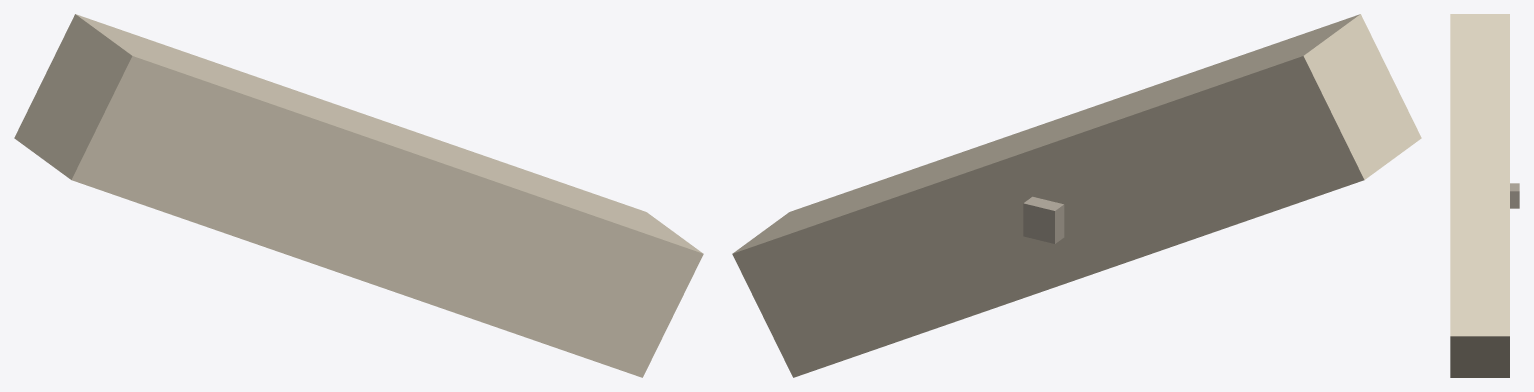
Rendered from historic-palestine-13_36_3550_3301.glb.
3 renders of one model, left to right at view 1: azimuth 30°, elevation 25°; view 2: azimuth 150°, elevation 25°; view 3: azimuth 270°, elevation 25°, orthographic. The views are drawn at different scales.
Parts seen in each view (by area): view 1: Building_; view 2: Building_, Roof access hut; view 3: Building_, Roof access hut.
Boxes of the visible parts, x1,y1,x2,y2 form: Building_: (14, 14, 703, 377); Building_: (732, 14, 1421, 377); Roof access hut: (1023, 196, 1064, 243); Building_: (1450, 14, 1509, 377); Roof access hut: (1510, 183, 1519, 208).
Size of the model in its own units: 47.84 by 32.28 by 8.7.
